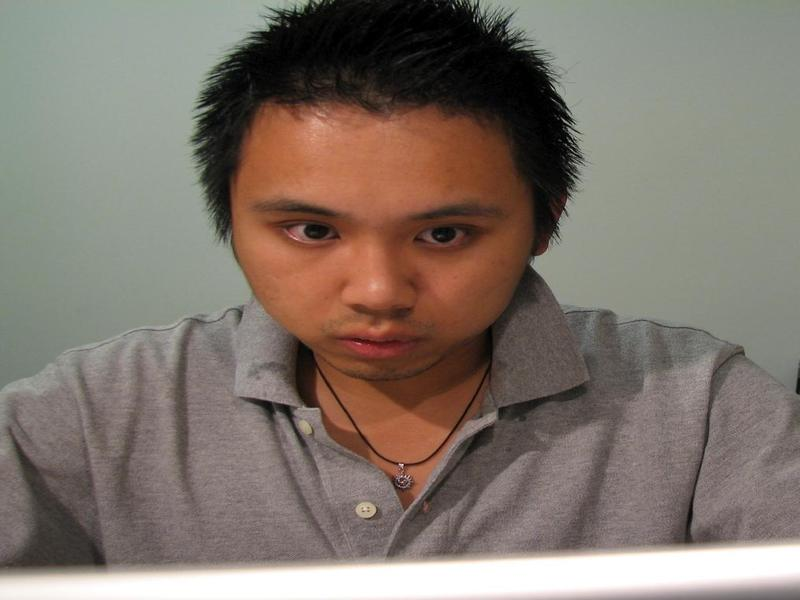person: (1, 4, 799, 543)
